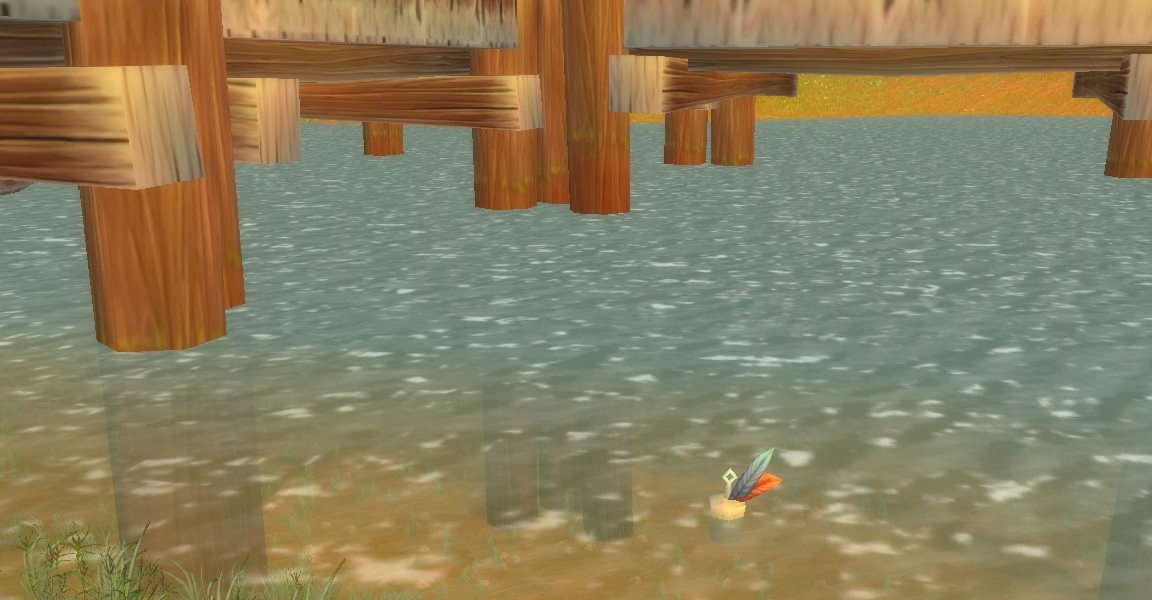Bobber: (705, 445, 786, 525)
